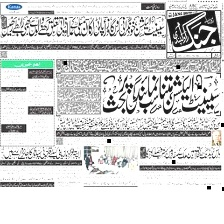news_paper: (0, 0, 223, 187)
